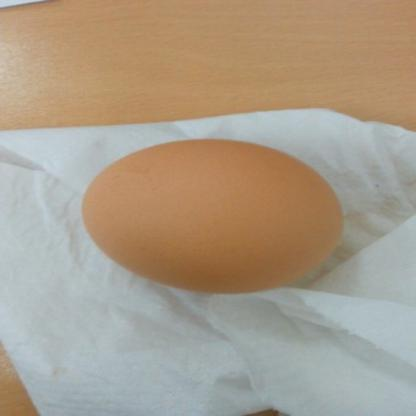egg: (82, 133, 351, 297)
